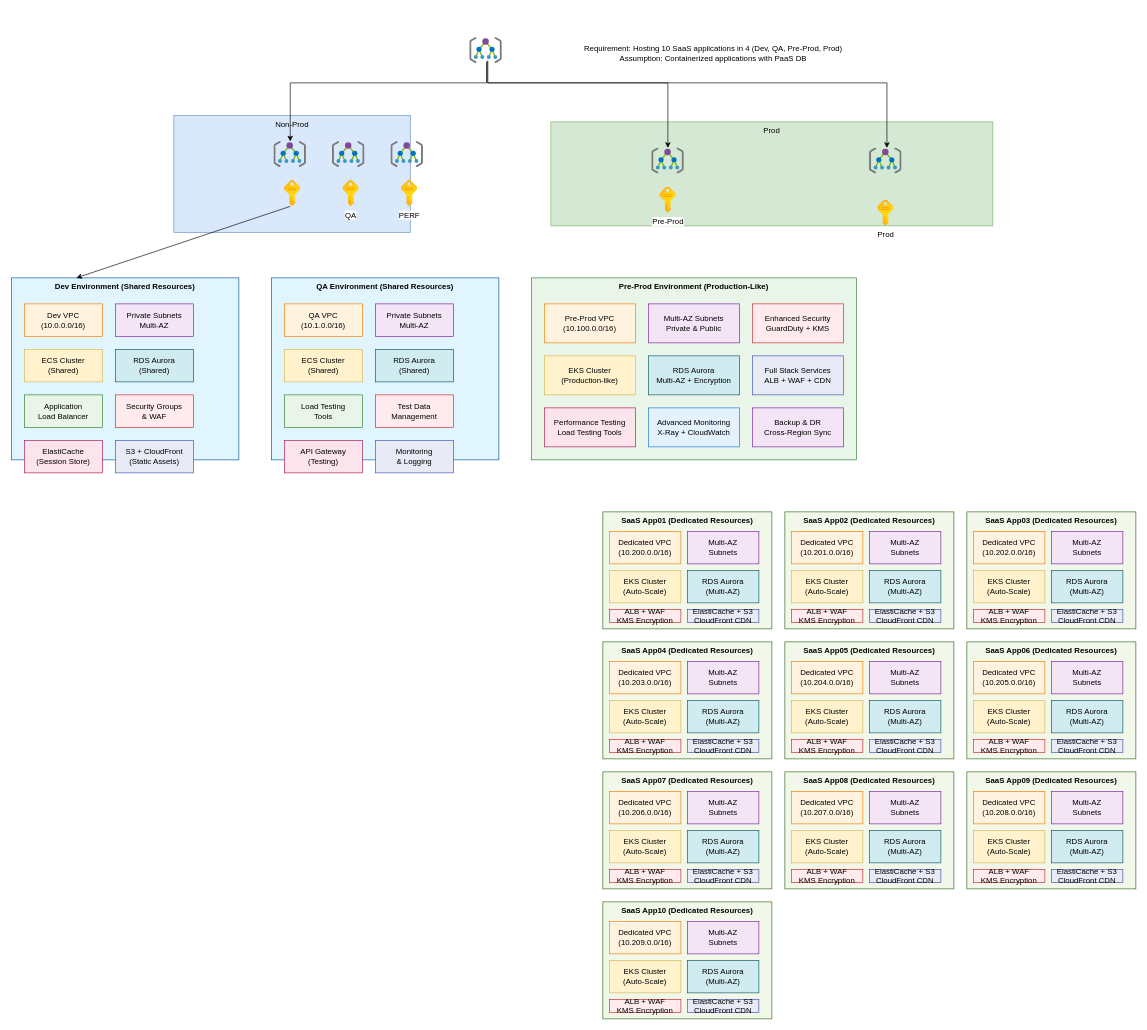
This 1147x1030 diagram has some shape labels left out. Here are the shapes that lost their labels. From the top down, the centre of each, then its label:
point (485, 50): SaaS Apps
point (292, 193): DEV
